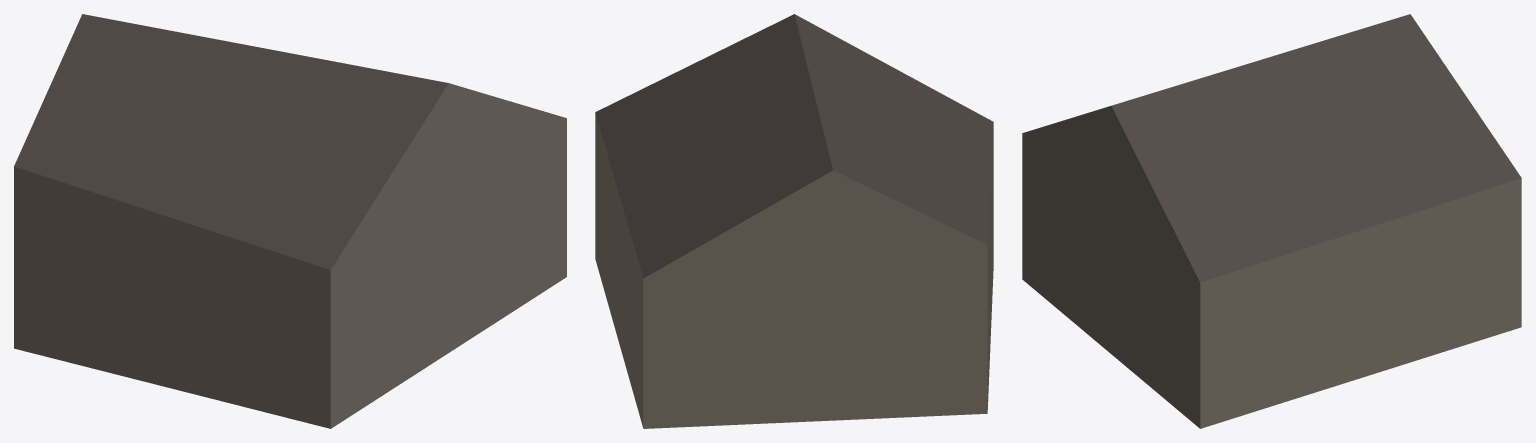
3 renders of one model, left to right at view 1: azimuth 30°, elevation 25°; view 2: azimuth 150°, elevation 25°; view 3: azimuth 270°, elevation 25°, orthographic. The views are drawn at different scales.
Visible parts, largest first — view 1: HP-w859424139; view 2: HP-w859424139; view 3: HP-w859424139.
Boxes of the visible parts, bbox=[...] form: HP-w859424139: bbox=[14, 14, 566, 428]; HP-w859424139: bbox=[595, 14, 993, 428]; HP-w859424139: bbox=[1022, 14, 1521, 428].
Size of the model in its own units: 19.3 by 10.2 by 18.57.
